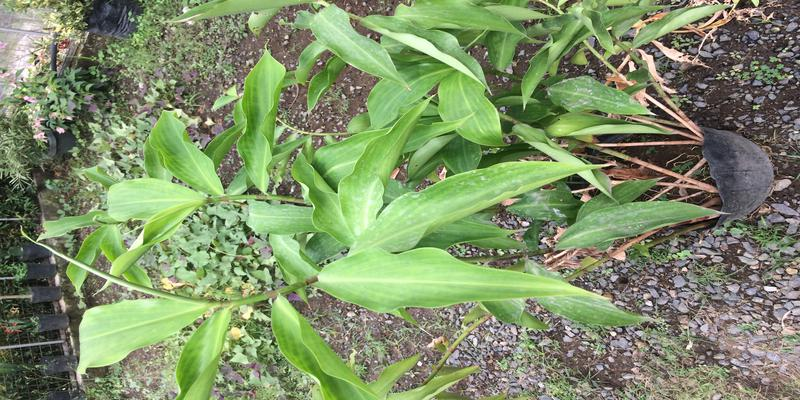Insulin: (256, 87, 722, 320)
